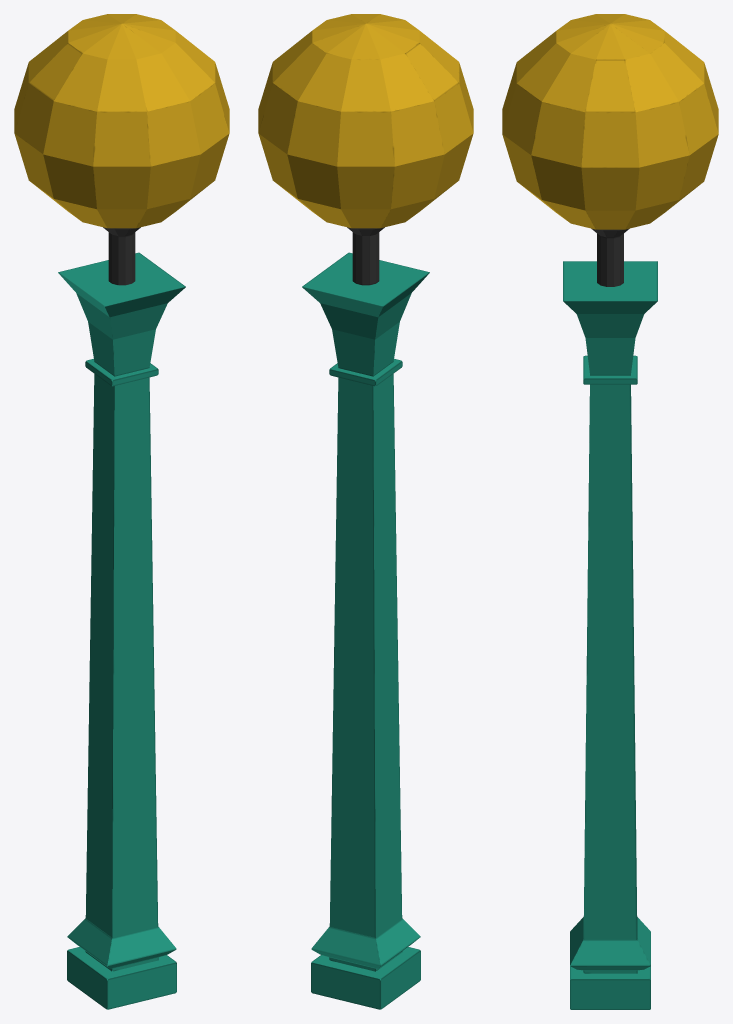
File: nyc_subway_entrance_1_globe_light_2y.obj
3 views of the same model, side by side, from view 1: azimuth 30°, elevation 25°; view 2: azimuth 150°, elevation 25°; view 3: azimuth 270°, elevation 25° (orthographic).
Parts seen in each view (by area): view 1: cube, sphere, cylinder; view 2: cube, sphere, cylinder; view 3: cube, sphere, cylinder.
Boxes of the visible parts, x1,y1,x2,y2 form: cube: [58, 252, 185, 1009]; sphere: [14, 14, 229, 228]; cylinder: [103, 227, 140, 285]; cube: [302, 252, 429, 1009]; sphere: [258, 14, 473, 228]; cylinder: [347, 227, 384, 285]; cube: [563, 261, 657, 1009]; sphere: [502, 14, 718, 229]; cylinder: [591, 228, 629, 286].
Size of the model in its own units: 0.5 by 2.47 by 0.5.
Materials: 1 (1 with a texture image).
